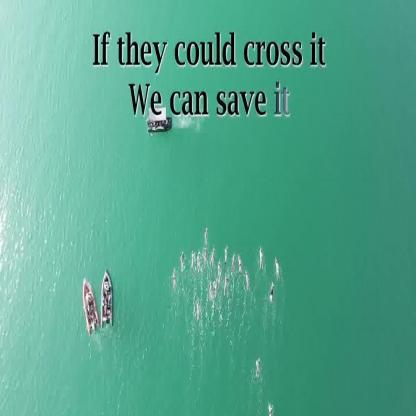Boat: (100, 275, 117, 326), (82, 279, 98, 330)
